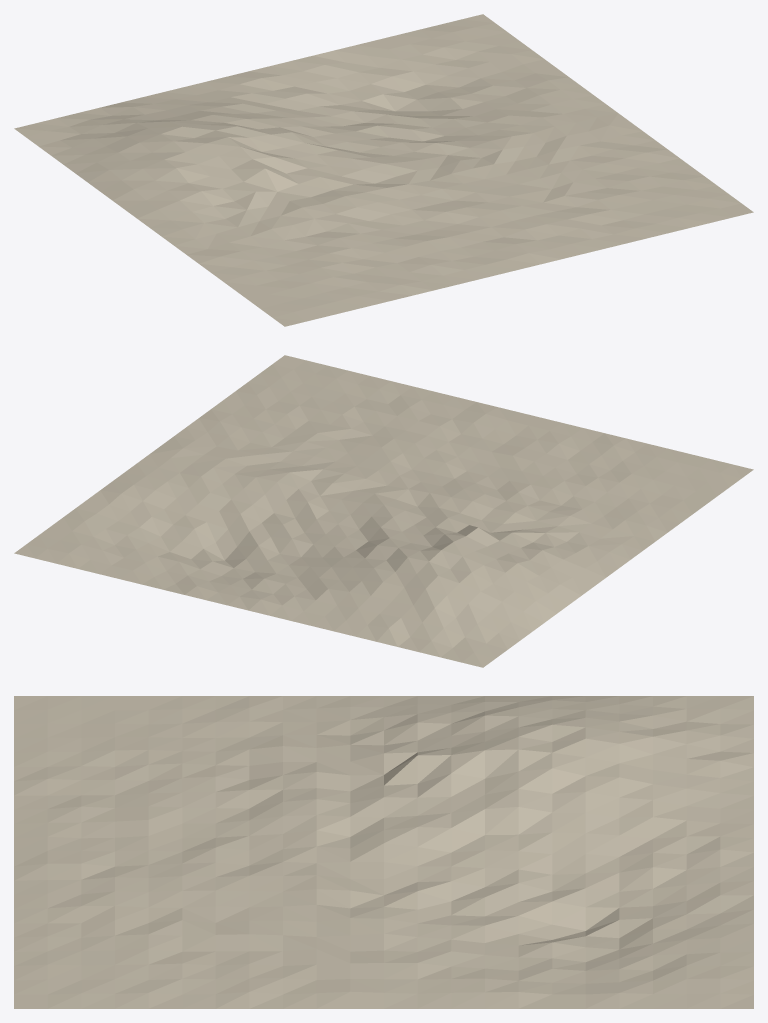
Rendered from Ground_s_08.fbx.
The picture shows the model from 3 angles, top to bottom: view 1: azimuth 30°, elevation 25°; view 2: azimuth 150°, elevation 25°; view 3: azimuth 270°, elevation 25°; orthographic projection. The views are drawn at different scales.
Visible parts, largest first — view 1: Ground_s_08; view 2: Ground_s_08; view 3: Ground_s_08.
Boxes of the visible parts, <box> form: Ground_s_08: <box>14,14,753,326</box>; Ground_s_08: <box>14,355,753,667</box>; Ground_s_08: <box>14,696,753,1008</box>.
Bounding box in the file's own units: 5000 × 399 × 5000.
